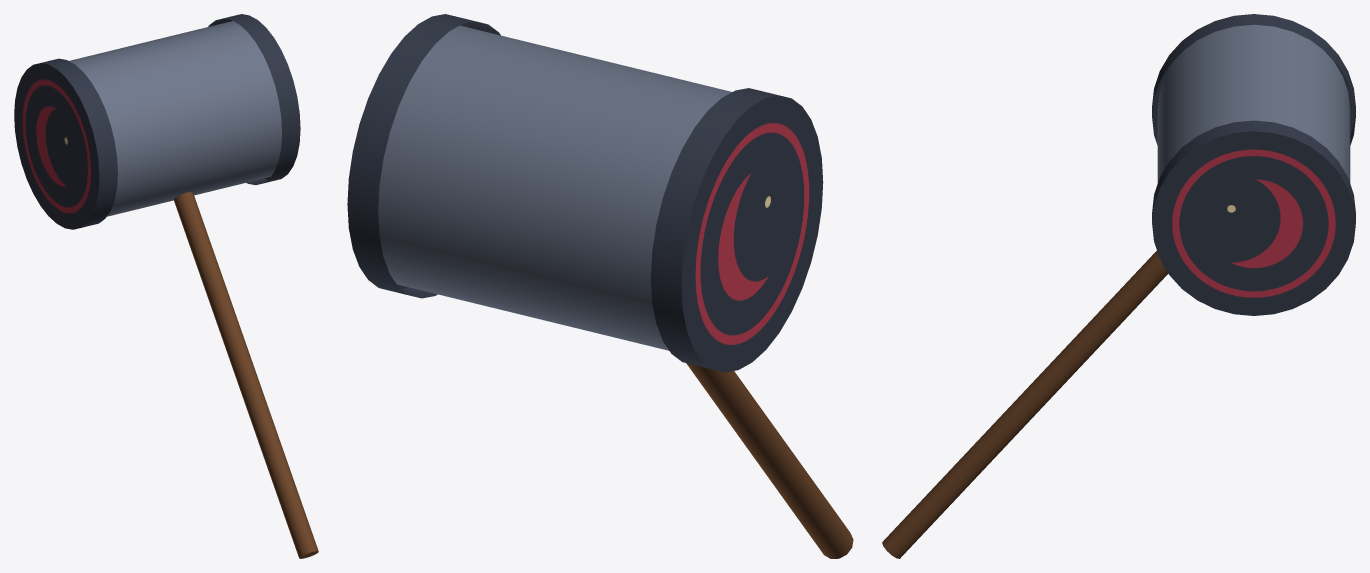
The model's file is player_hammer.obj.
3 views of the same model, side by side, from view 1: azimuth 30°, elevation 25°; view 2: azimuth 150°, elevation 25°; view 3: azimuth 270°, elevation 25° (orthographic). The views are drawn at different scales.
Visible parts, largest first — view 1: player_hammer; view 2: player_hammer; view 3: player_hammer.
Boxes of the visible parts, box(x1,y1,x2,y2) form: player_hammer: box(14, 14, 318, 558); player_hammer: box(347, 14, 853, 558); player_hammer: box(882, 14, 1355, 558).
Bounding box in the file's own units: 0.49 × 0.9443 × 0.8367.
1 material, 1 textured.
